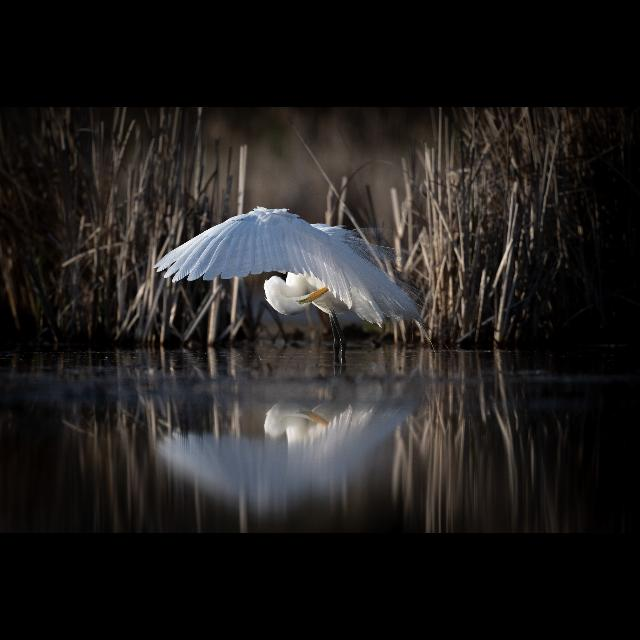egret: (158, 207, 408, 347)
